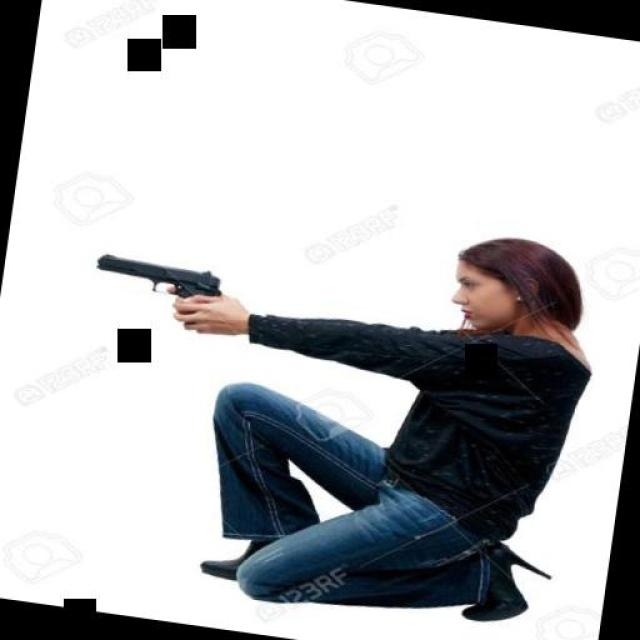gun: (82, 245, 232, 327)
